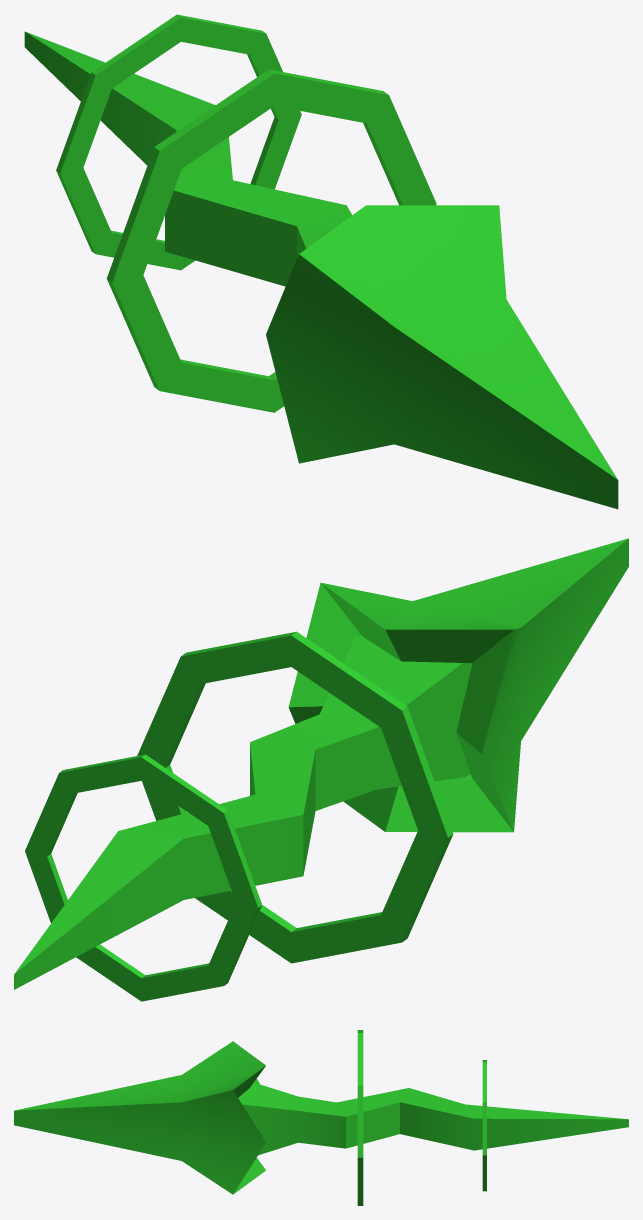
Rendered from BULLET - RAYGUN - COLOR.fbx.
3 views of the same model, one above another, from view 1: azimuth 30°, elevation 25°; view 2: azimuth 150°, elevation 25°; view 3: azimuth 270°, elevation 25° (orthographic). The views are drawn at different scales.
Parts seen in each view (by area): view 1: BULLET - RAYGUN; view 2: BULLET - RAYGUN; view 3: BULLET - RAYGUN.
Part boxes in pixels (x1,y1,x2,y2): BULLET - RAYGUN: (24,14,618,509); BULLET - RAYGUN: (14,538,628,1001); BULLET - RAYGUN: (14,1030,628,1205).
Bounding box in the file's own units: 113 × 113 × 371.
